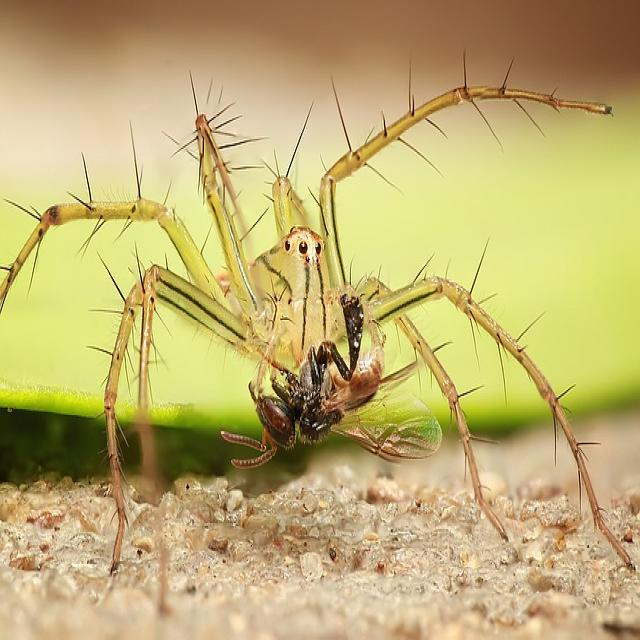spyder: (0, 89, 572, 569)
